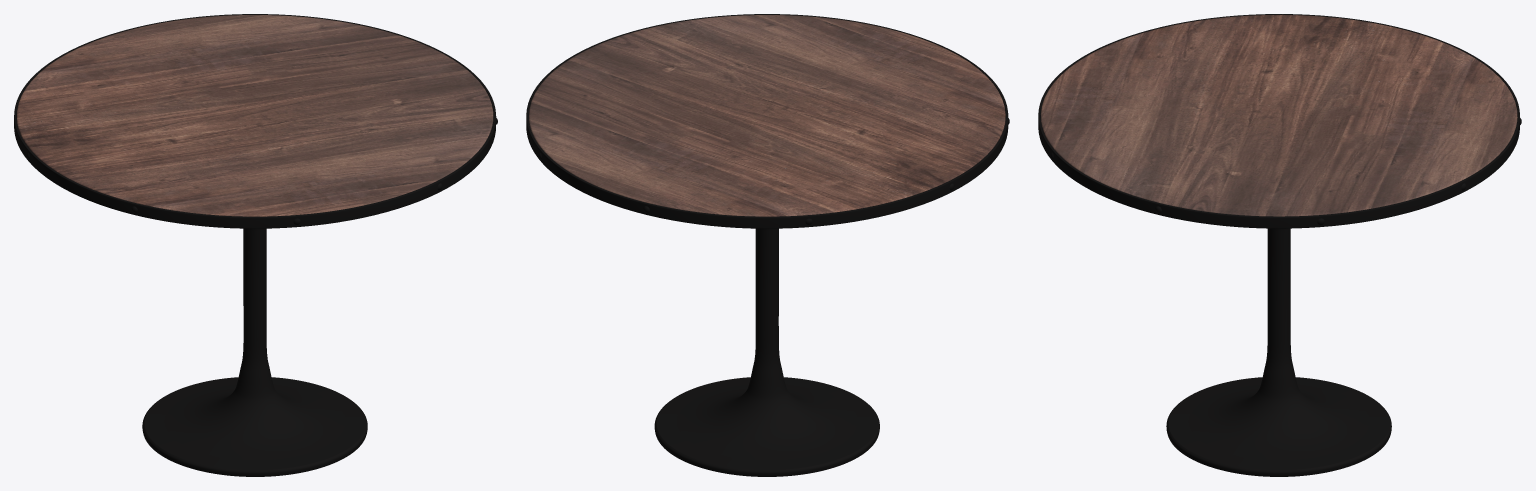
3 views of the same model, side by side, from view 1: azimuth 30°, elevation 25°; view 2: azimuth 150°, elevation 25°; view 3: azimuth 270°, elevation 25° (orthographic).
Parts seen in each view (by area): view 1: Cylinder001, Donut001; view 2: Cylinder001, Donut001; view 3: Cylinder001, Donut001.
Part boxes in pixels (x1,y1,x2,y2): Cylinder001: [17, 15, 493, 216]; Donut001: [14, 14, 497, 476]; Cylinder001: [529, 15, 1005, 216]; Donut001: [526, 14, 1009, 476]; Cylinder001: [1040, 14, 1517, 216]; Donut001: [1038, 14, 1521, 476].
Bounding box in the file's own units: 1071 × 772 × 1075.
2 materials, 1 textured.
